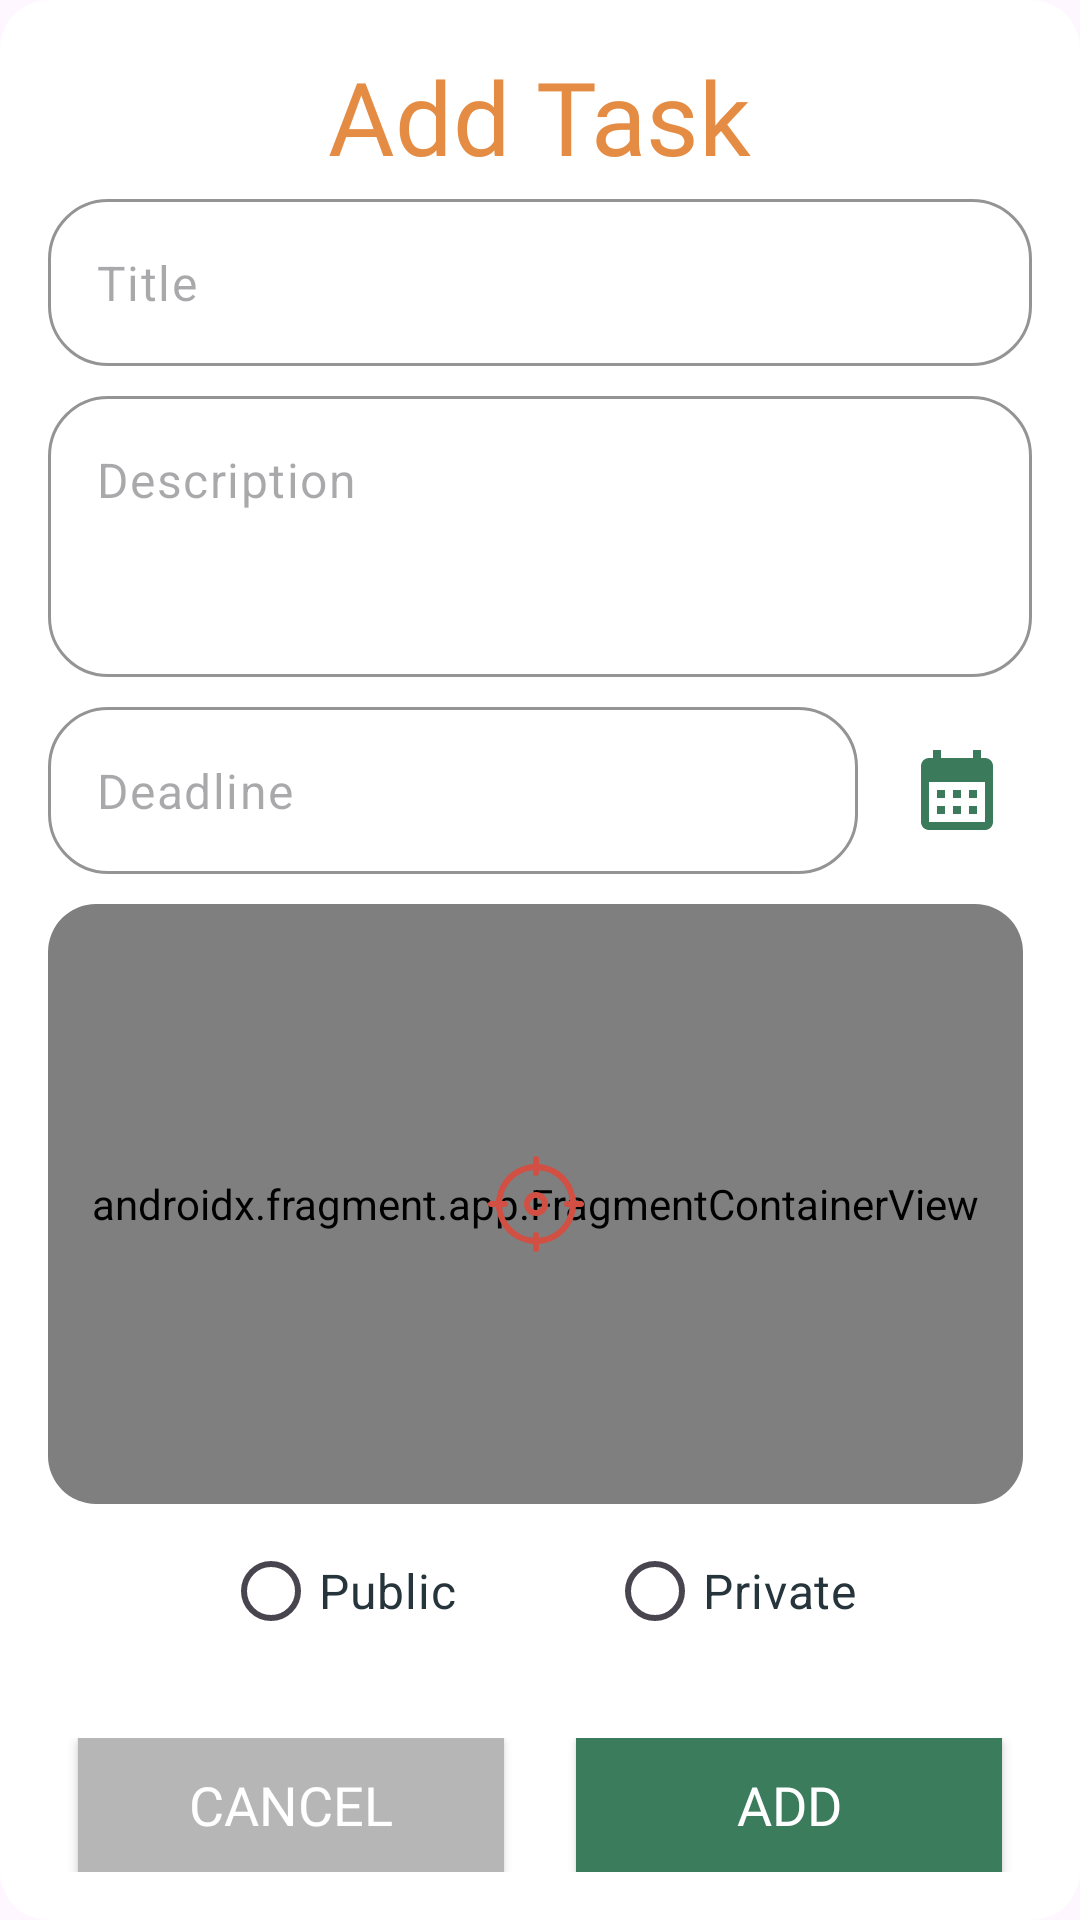

Named icons in this screenshot (1080 × 1920) and their centers, (x=x, y=y):
Pick Date: (x=957, y=790)
